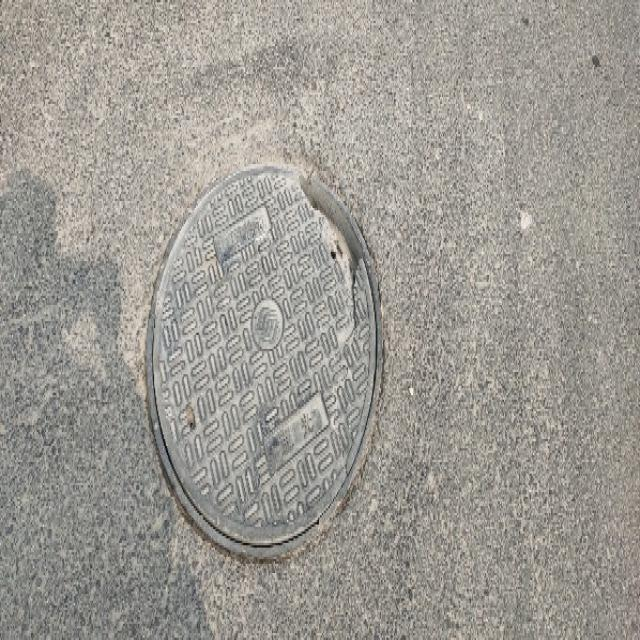Broken: (140, 158, 407, 581)
